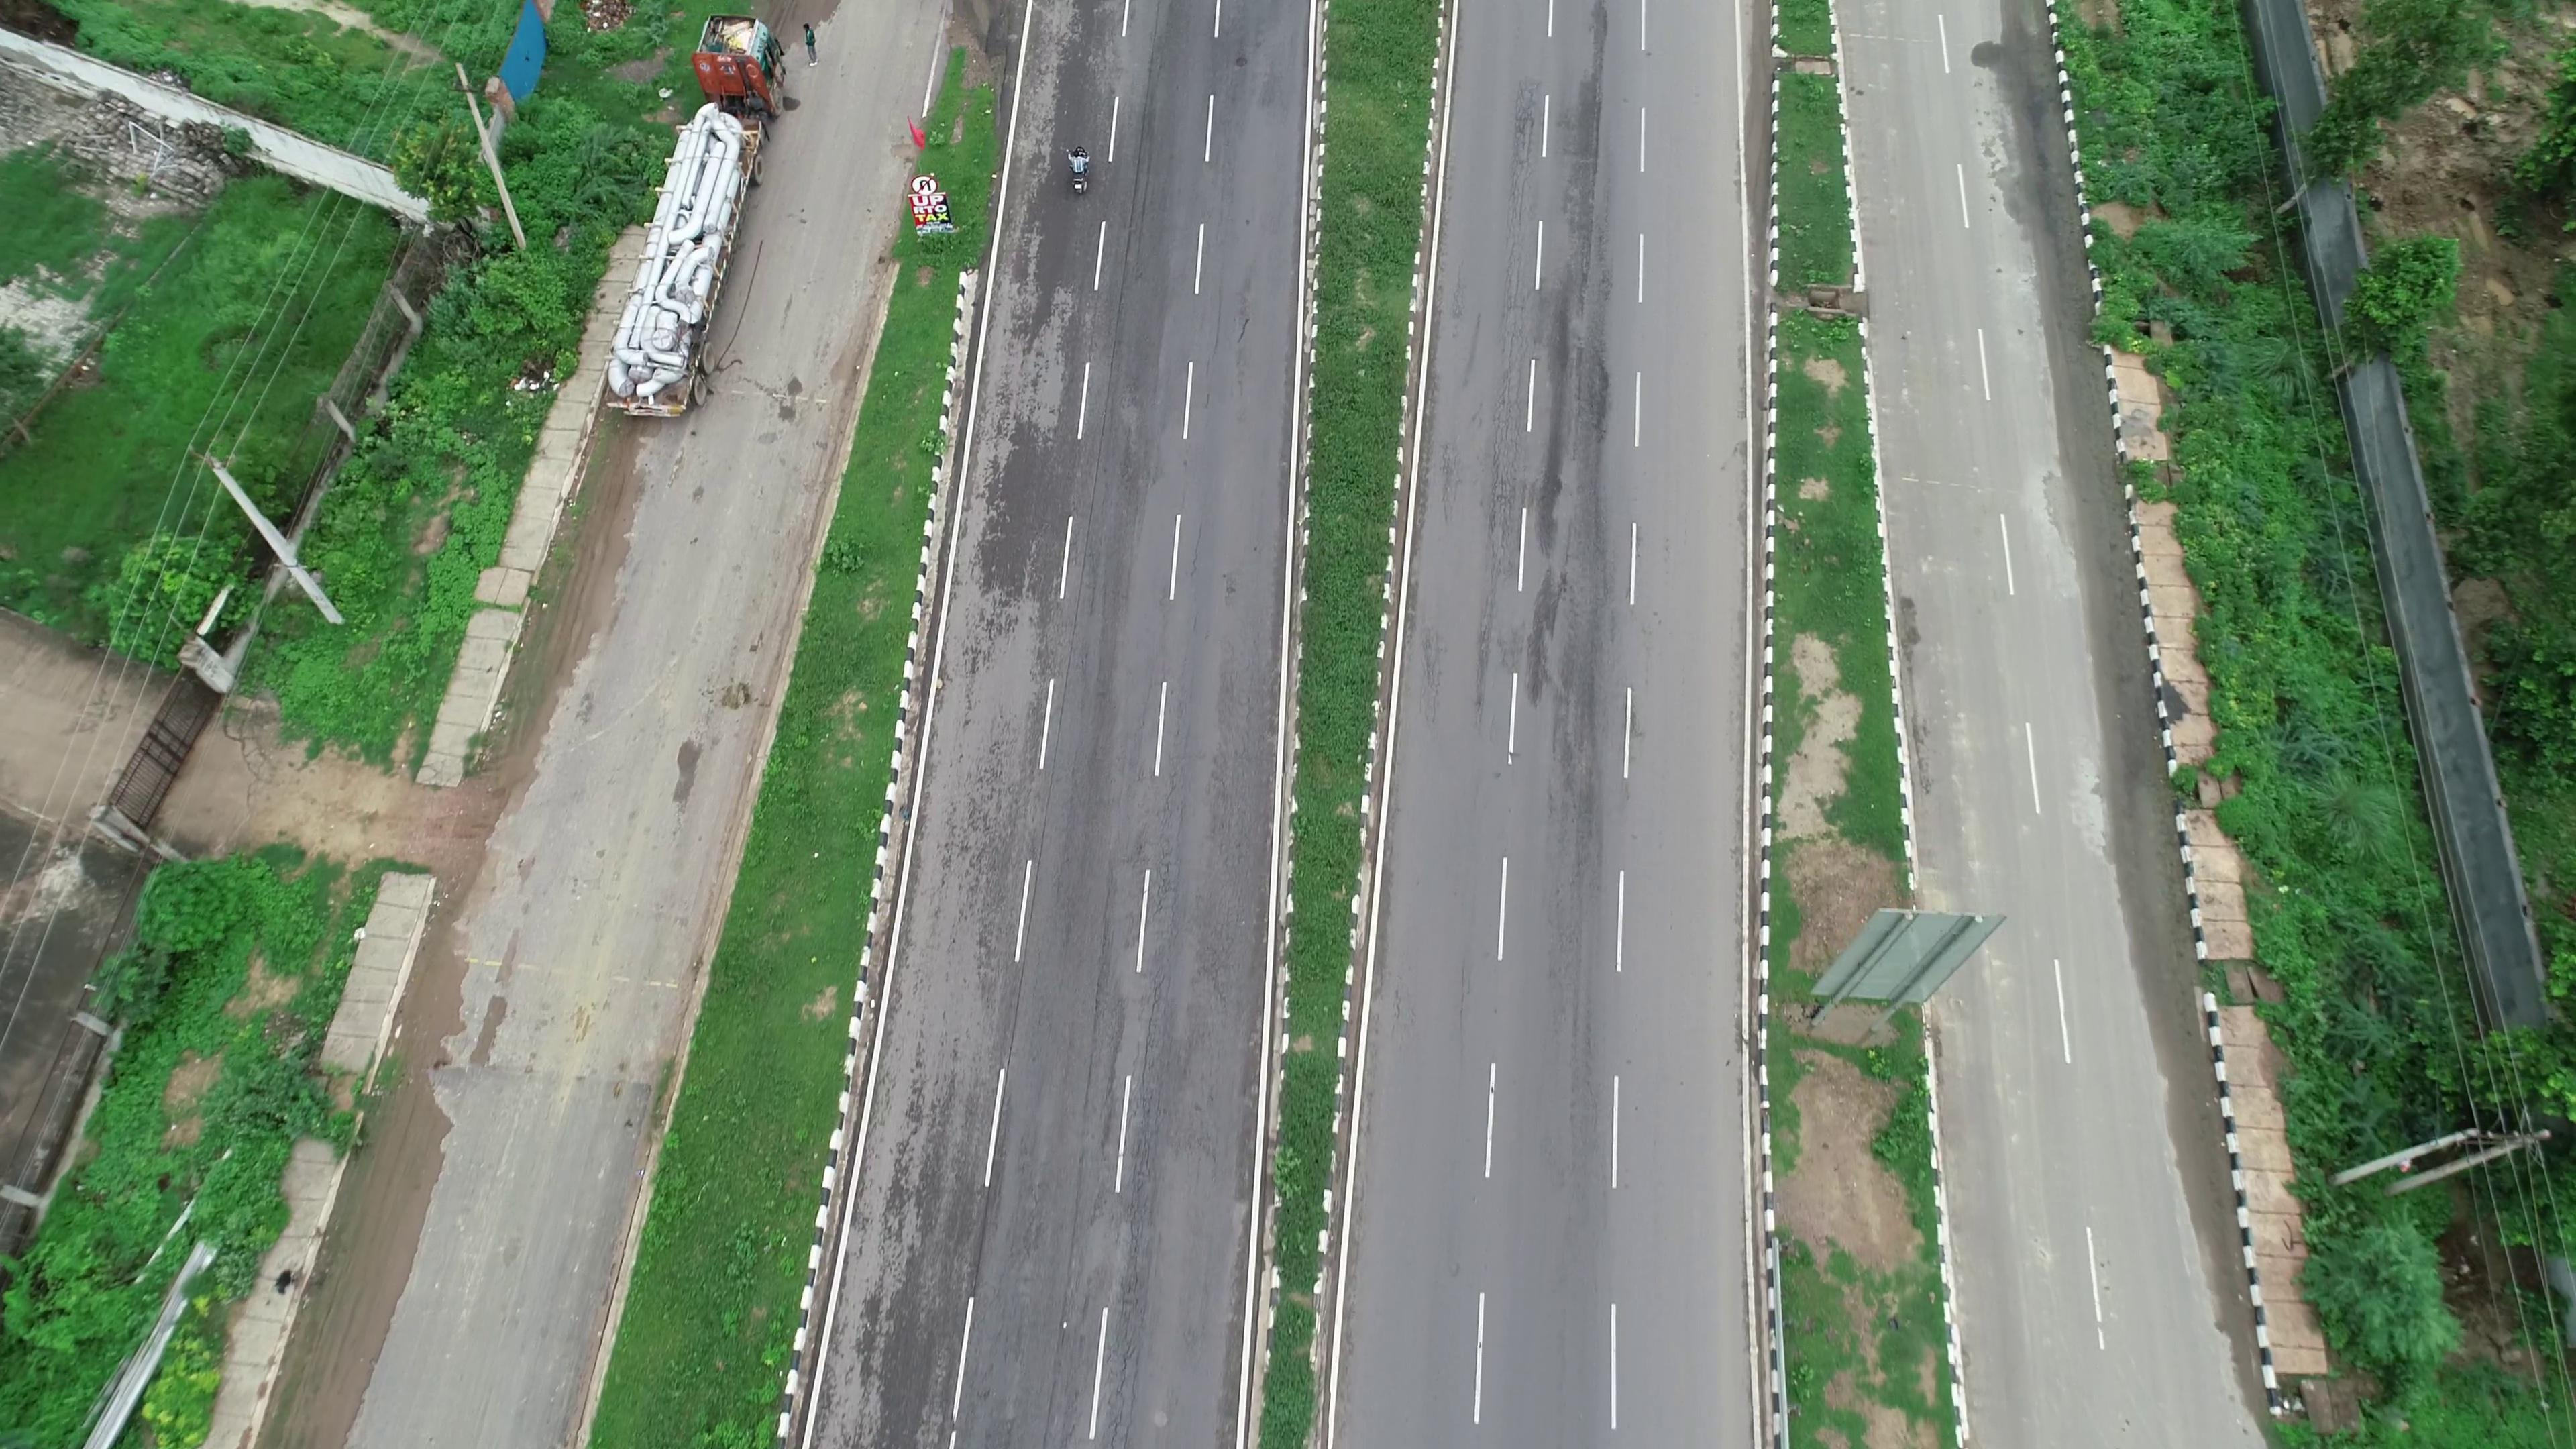Alligator_cracks: (1097, 989, 1192, 1421), (1125, 768, 1203, 936), (1493, 73, 1539, 338), (1476, 366, 1532, 545)
Ravelling: (1527, 343, 1621, 681), (1548, 37, 1631, 308)
